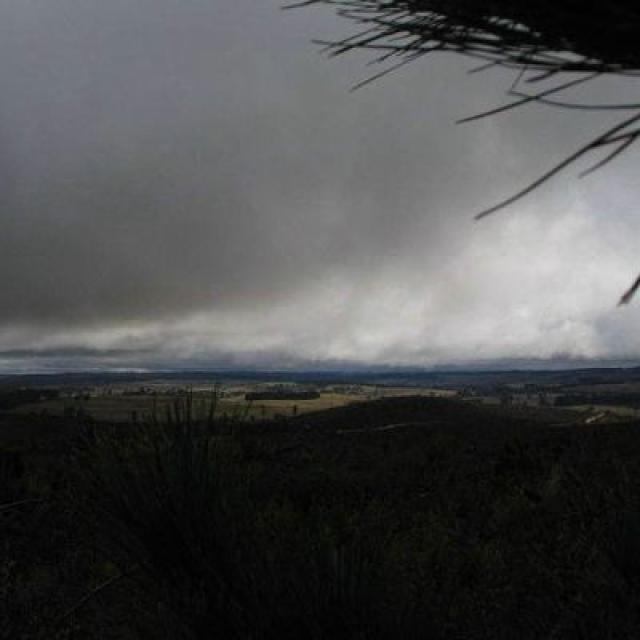St: (1, 41, 435, 336)
